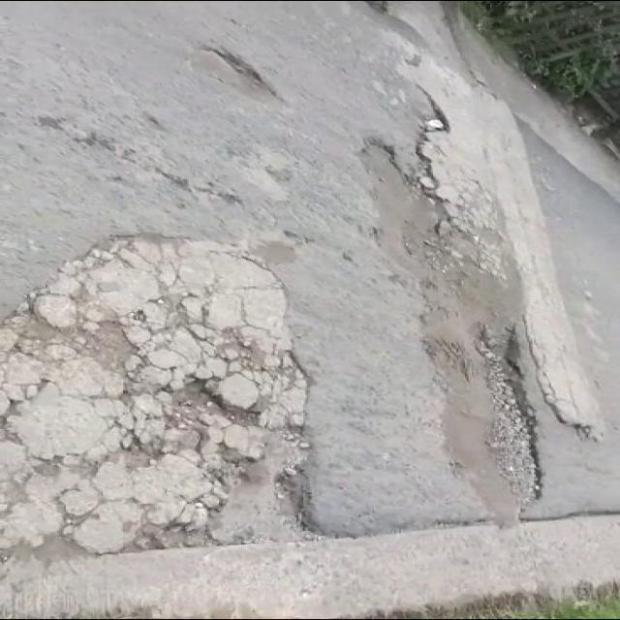lubang: (0, 238, 308, 554), (360, 139, 540, 521), (398, 78, 450, 196), (188, 46, 283, 103)
